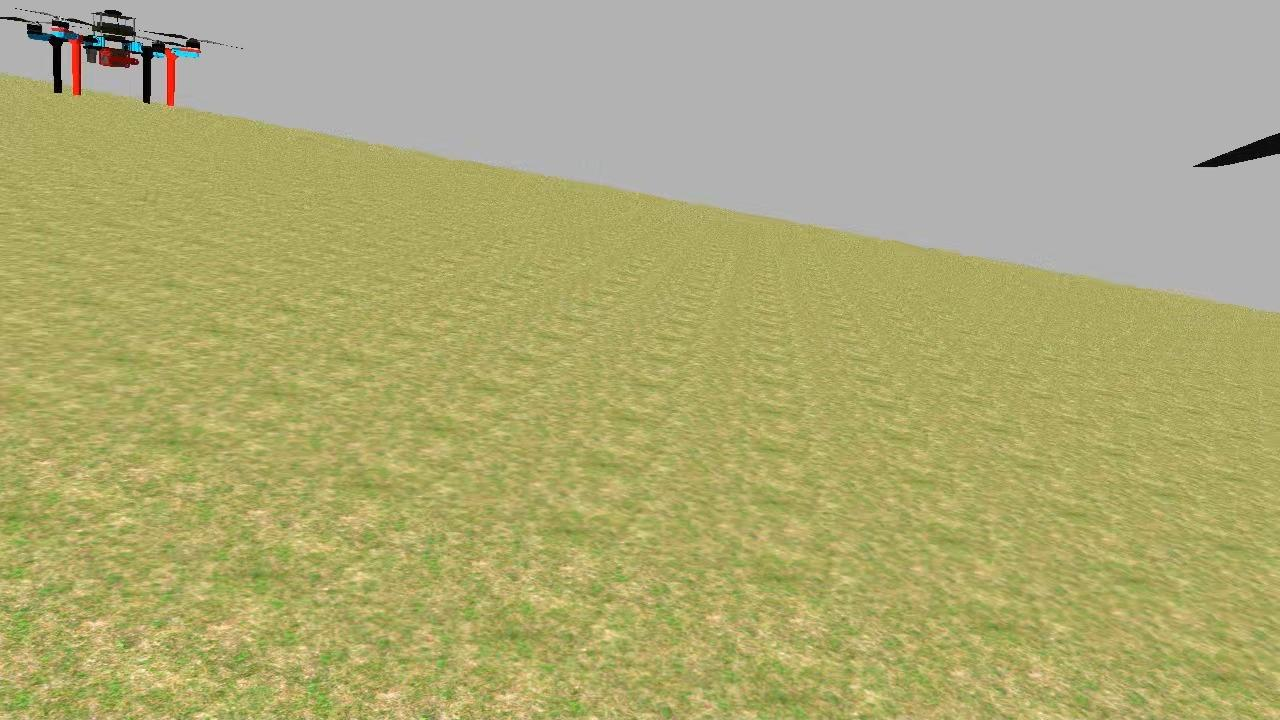UAV: (18, 0, 208, 112)
